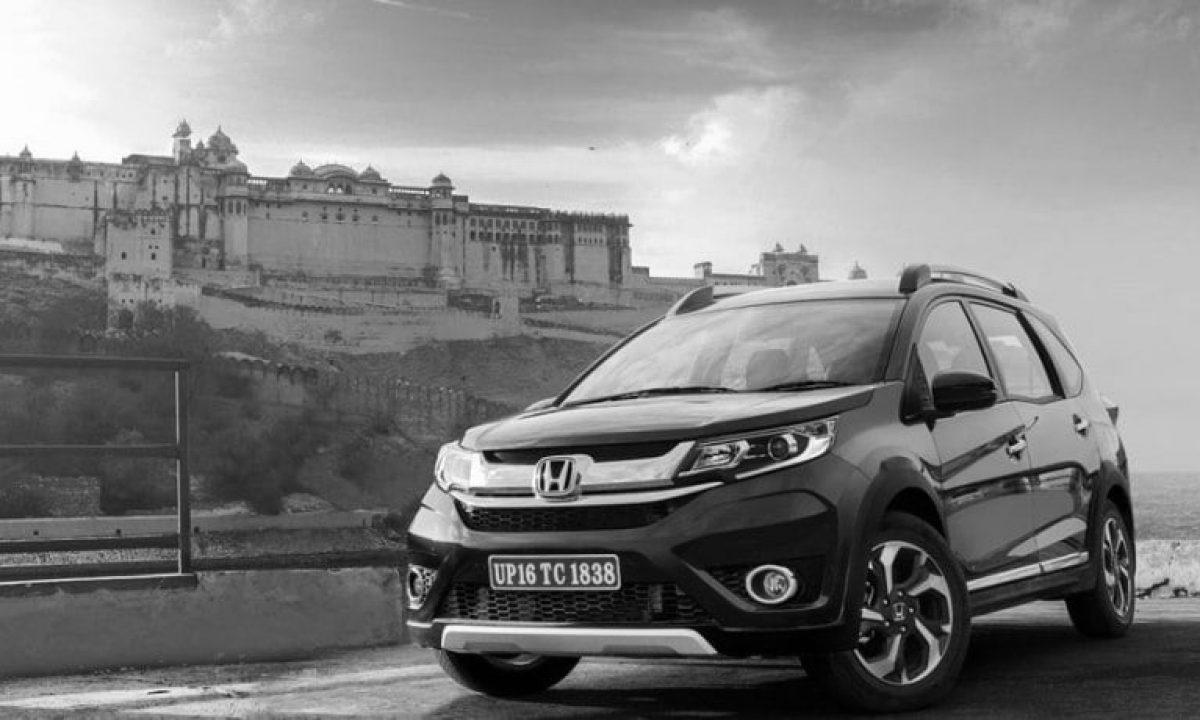Car hood: (455, 376, 879, 458)
Fender - -F-L-: (812, 380, 954, 529)
Fender - -R-L-: (1068, 376, 1138, 561)
Front bumper: (404, 448, 875, 664)
Headlight - -L-: (677, 410, 840, 487)
Headlight - -R-: (431, 440, 490, 491)
Passenger-s door - -F-L-: (902, 276, 1051, 620)
Passenger-s door - -R-L-: (966, 281, 1100, 605)
Side bumper - -L-: (955, 549, 1093, 639)
Side mirror - -L-: (908, 366, 998, 427)
